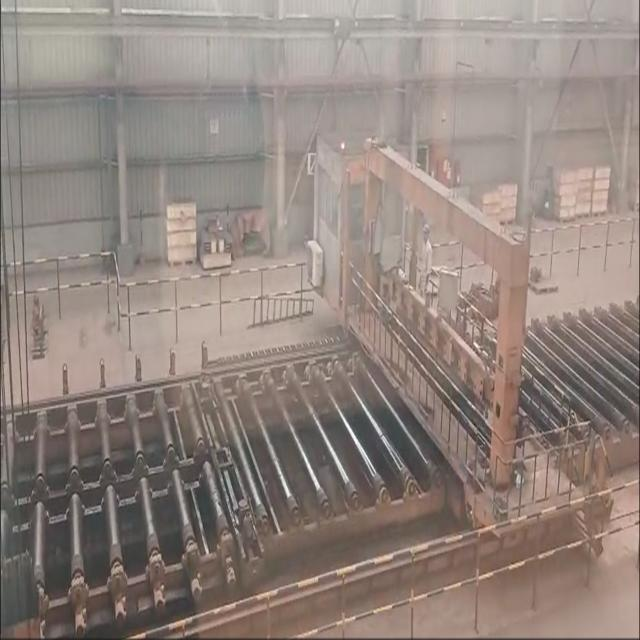warningzone: (13, 334, 463, 621), (528, 297, 638, 454)
